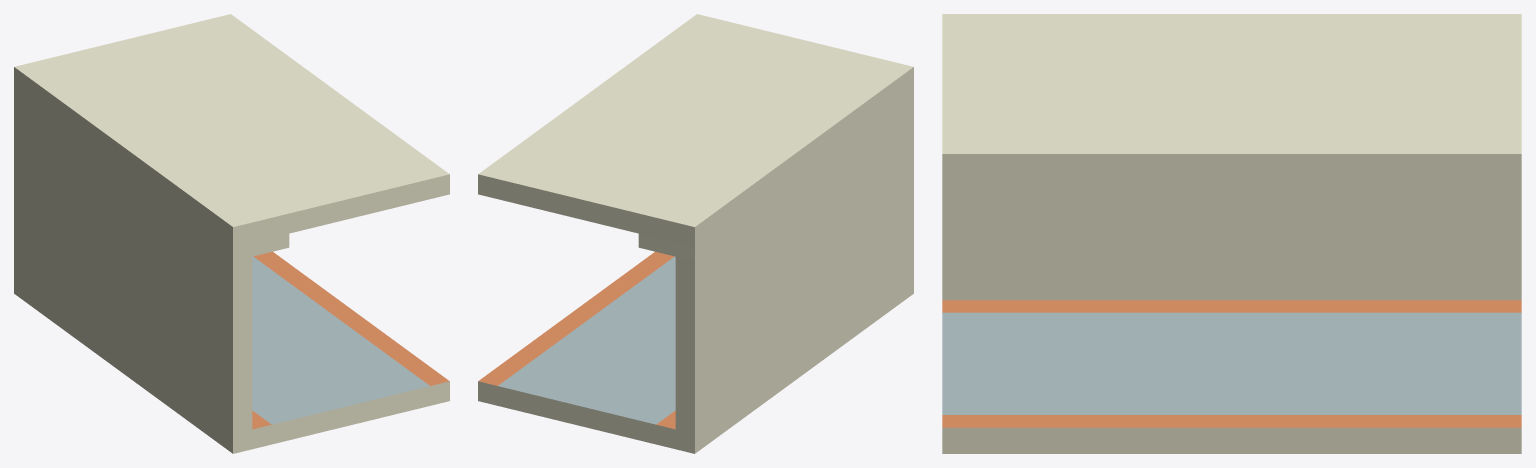
Rendered from hospital_corridor_maptiles_01.fbx.
3 renders of one model, left to right at view 1: azimuth 30°, elevation 25°; view 2: azimuth 150°, elevation 25°; view 3: azimuth 270°, elevation 25°, orthographic. The views are drawn at different scales.
Visible parts, largest first — view 1: wall.001; view 2: wall.001; view 3: wall.001.
Part boxes in pixels (x1,y1,x2,y2): wall.001: [14, 14, 449, 453]; wall.001: [478, 14, 913, 453]; wall.001: [942, 14, 1521, 453].
Size of the model in its own units: 400 by 400 by 700.
